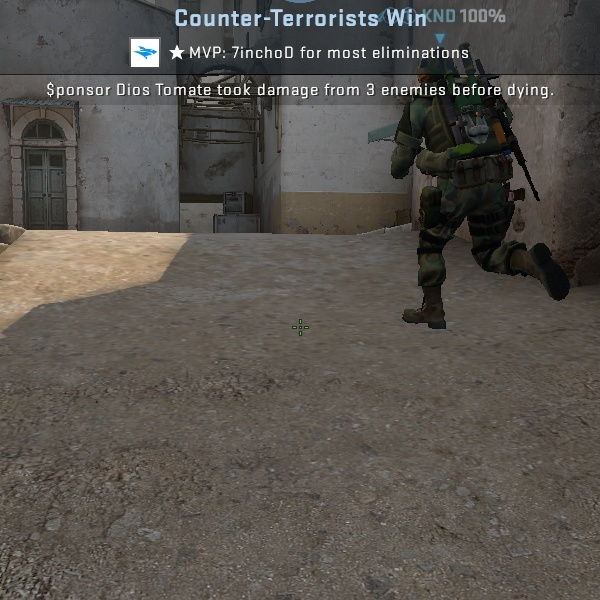ct_body: (374, 43, 563, 326)
ct_head: (409, 45, 470, 101)
